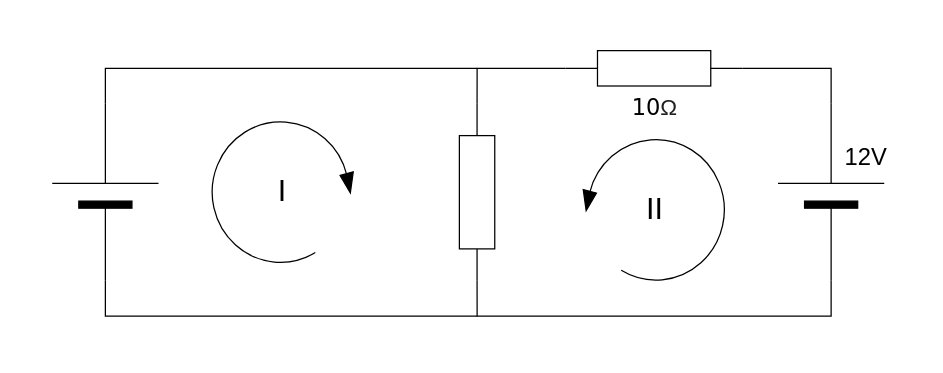
This 943x373 diagram has some shape labels left out. The shapes that lost their labels are listed below. From the top down, each one's centre as x and y in pixels, then its label:
At (104,191): "10V".
At (476,191): "30 Ω".
